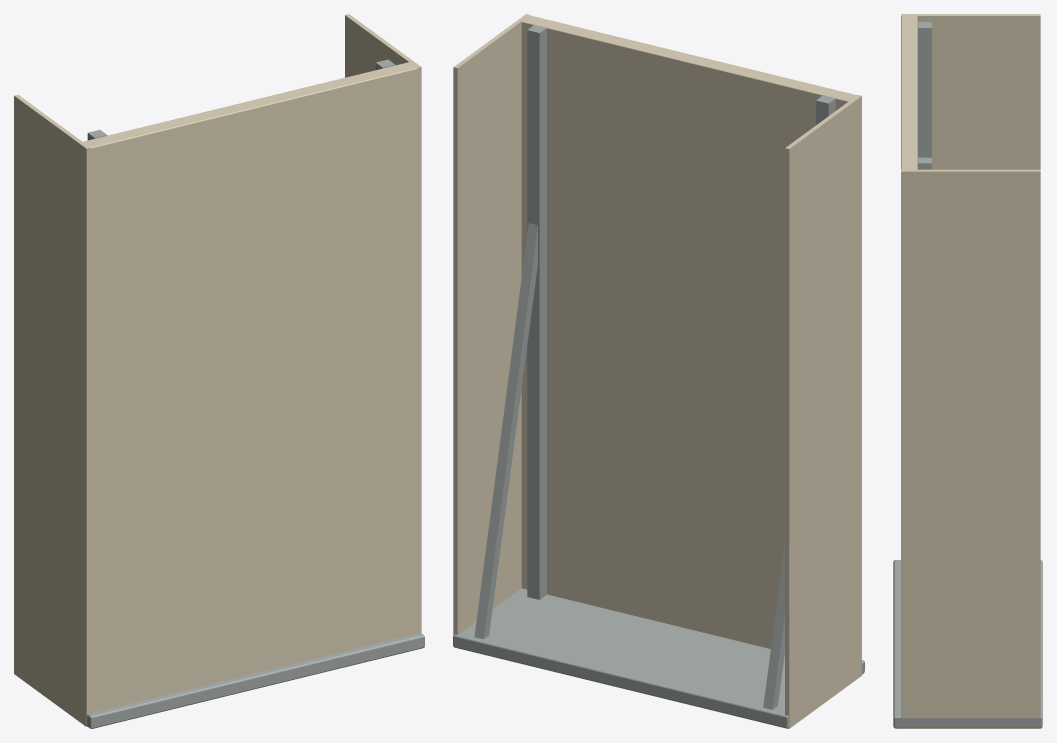
Rendered from indoor-climbing-and-bouldering-gym-indoor-climbing-and-c9afbf77__31514.glb.
3 views of the same model, side by side, from view 1: azimuth 30°, elevation 25°; view 2: azimuth 150°, elevation 25°; view 3: azimuth 270°, elevation 25° (orthographic). The views are drawn at different scales.
Visible parts, largest first — view 1: indoor-climbing-and-bouldering-gym-vertical-wall-panel; view 2: indoor-climbing-and-bouldering-gym-vertical-wall-panel; view 3: indoor-climbing-and-bouldering-gym-vertical-wall-panel.
Boxes of the visible parts, <box> form: indoor-climbing-and-bouldering-gym-vertical-wall-panel: <box>14,14,424,728</box>; indoor-climbing-and-bouldering-gym-vertical-wall-panel: <box>453,14,864,728</box>; indoor-climbing-and-bouldering-gym-vertical-wall-panel: <box>893,14,1042,728</box>.
Size of the model in its own units: 2 by 3.31 by 0.7997.
